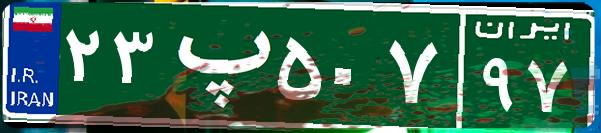0: (330, 28, 385, 110)
2: (57, 26, 110, 107)
3: (110, 28, 158, 105)
5: (273, 28, 330, 110)
7: (385, 28, 445, 110), (525, 38, 570, 115)
9: (475, 38, 525, 113)
پ: (158, 15, 273, 115)
